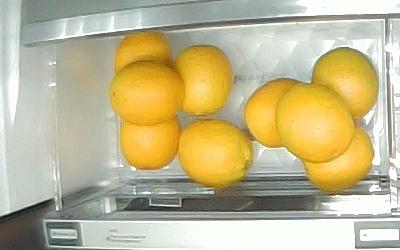orange: (276, 83, 354, 163), (179, 119, 254, 188), (303, 122, 375, 192), (311, 47, 380, 117), (111, 61, 185, 126), (172, 45, 233, 116), (244, 79, 304, 148), (120, 116, 180, 170), (114, 32, 172, 77)
